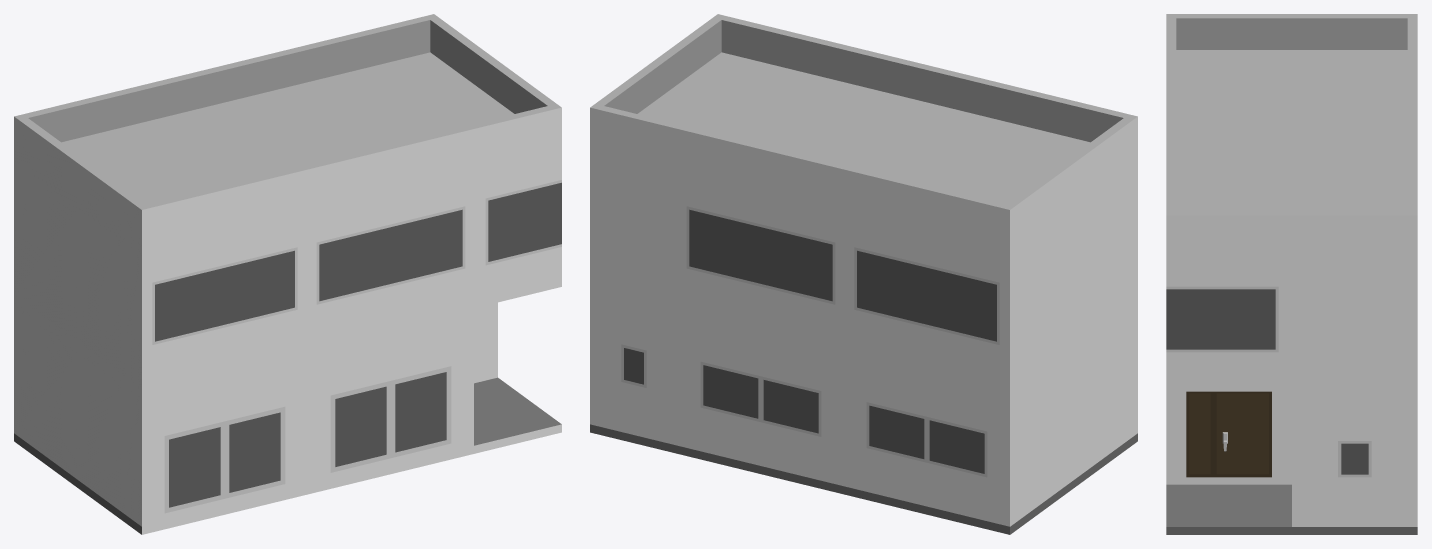
Rendered from house_a4 (1).fbx.
3 views of the same model, side by side, from view 1: azimuth 30°, elevation 25°; view 2: azimuth 150°, elevation 25°; view 3: azimuth 270°, elevation 25° (orthographic).
Parts seen in each view (by area): view 1: house; view 2: house; view 3: house.
Part boxes in pixels (<box>): house: <box>14,14,561,534</box>; house: <box>590,14,1137,534</box>; house: <box>1166,14,1417,534</box>.
Size of the model in its own units: 9.48 by 7.01 by 5.
